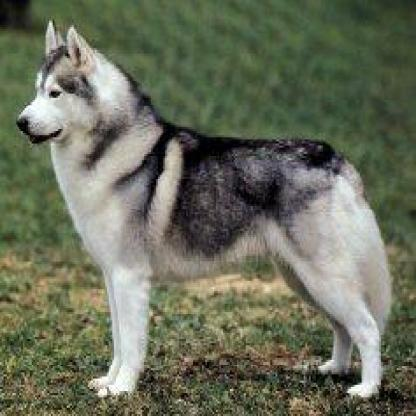Eskimo_dog: (7, 6, 400, 400)
